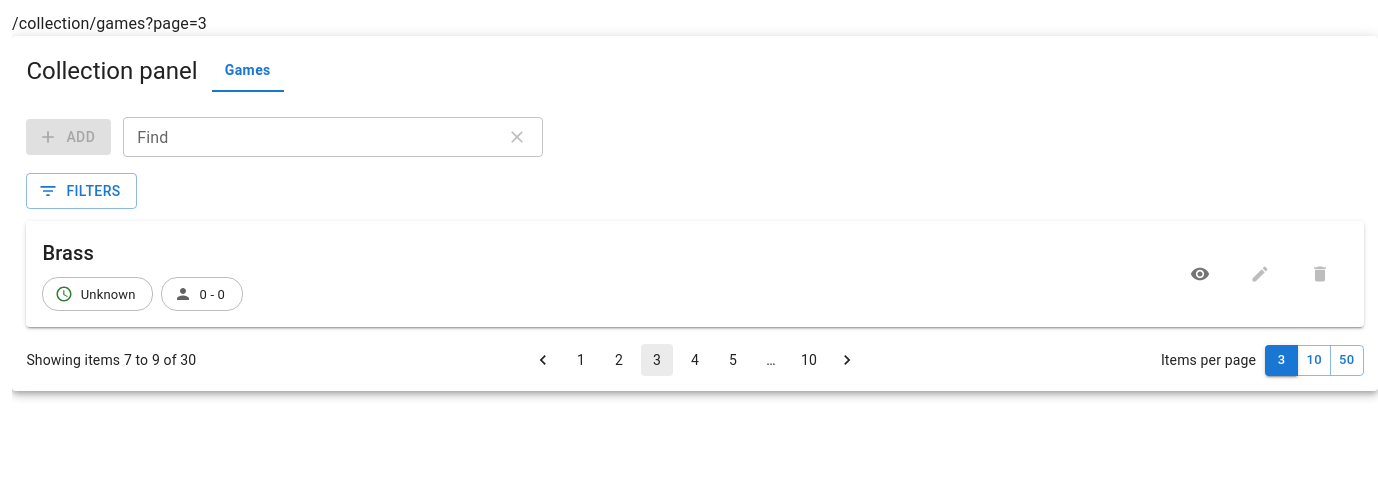
Test: EntityPanel filters › writes a changed filter to the URL and resets the page
Click the button "Filters" at (82, 191), box [26, 173, 137, 209]
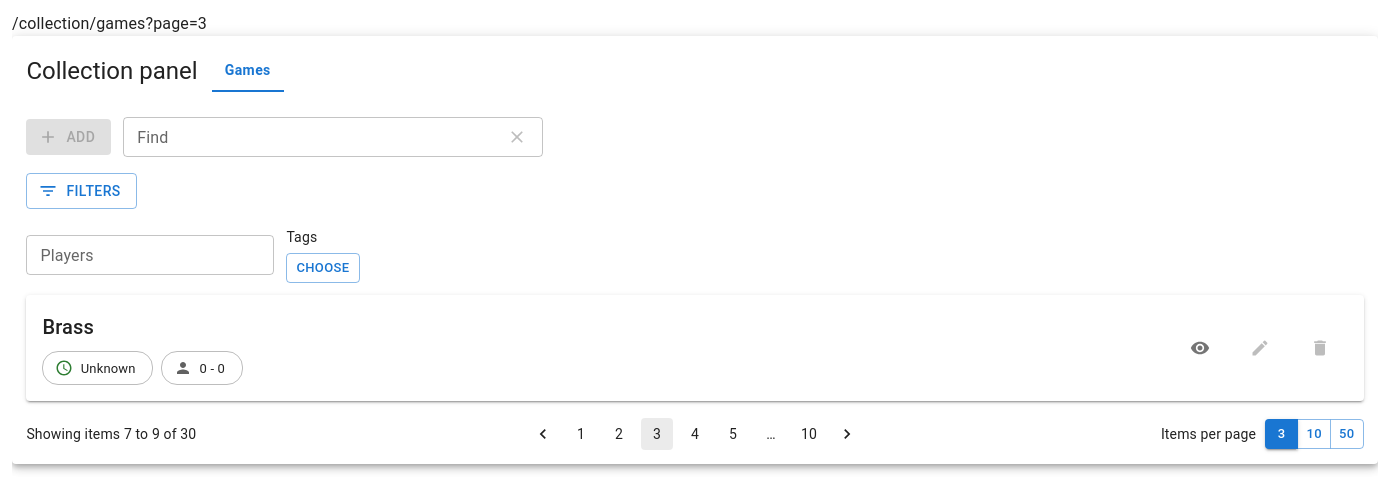
Type "4" into the field labelled "Players" at (150, 255), box [26, 235, 274, 275]
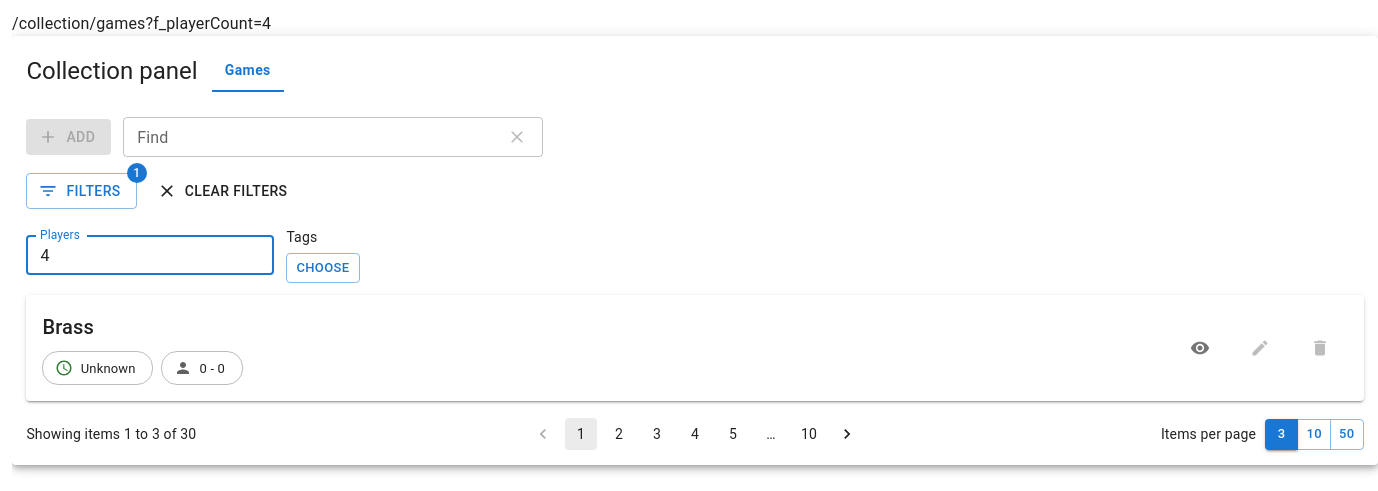
Result: the text with test id "location" reads "/collection/games?f_playerCount=4" at [12, 14, 271, 33]
